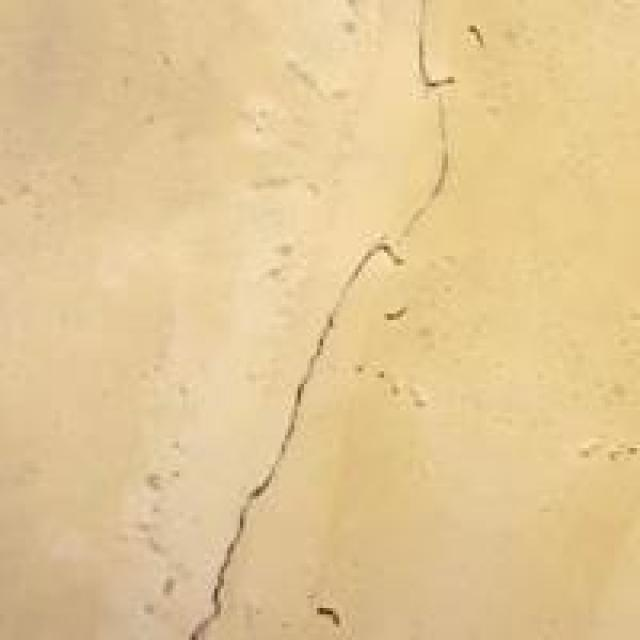crack: (131, 121, 490, 636)
